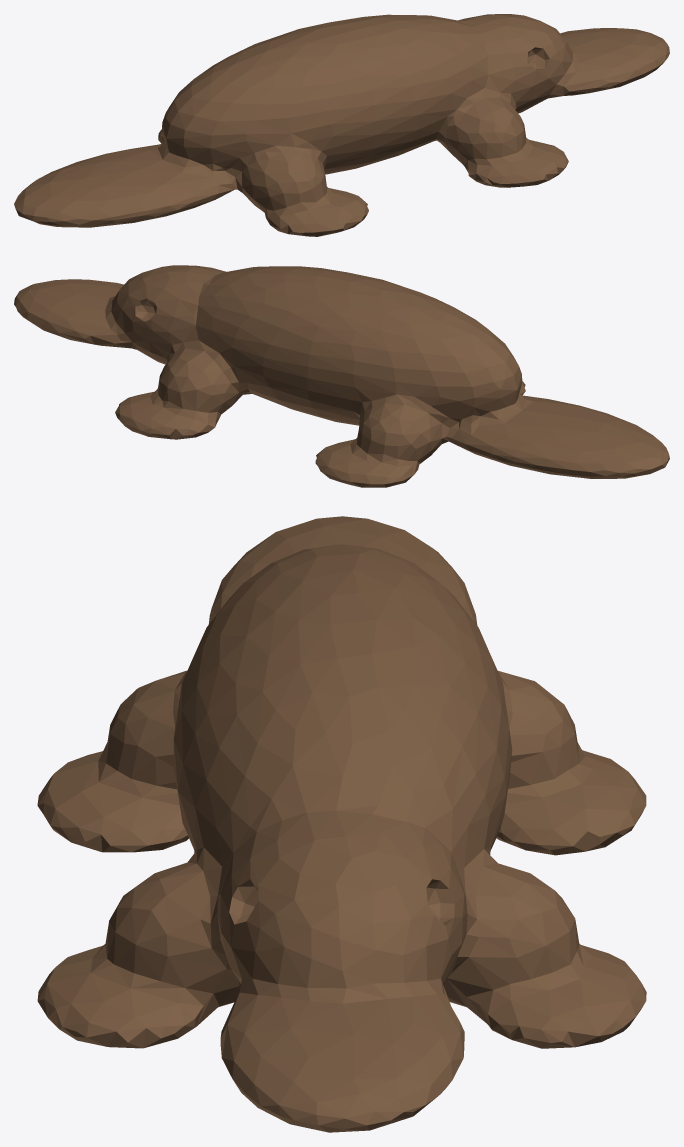
Rendered from NEW_RECOVERY_053_LOD1.glb.
3 views of the same model, one above another, from view 1: azimuth 30°, elevation 25°; view 2: azimuth 150°, elevation 25°; view 3: azimuth 270°, elevation 25° (orthographic). The views are drawn at different scales.
Parts seen in each view (by area): view 1: Platypus_whole_continuous_skin; view 2: Platypus_whole_continuous_skin; view 3: Platypus_whole_continuous_skin.
Boxes of the visible parts, left/top/right/bottom form: Platypus_whole_continuous_skin: left=14, top=14, right=669, bottom=236; Platypus_whole_continuous_skin: left=14, top=265, right=669, bottom=487; Platypus_whole_continuous_skin: left=37, top=516, right=646, bottom=1132.
Size of the model in its own units: 4.27 by 0.866 by 1.75.
